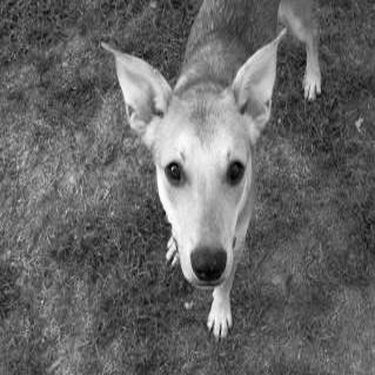dog: (87, 1, 332, 346)
